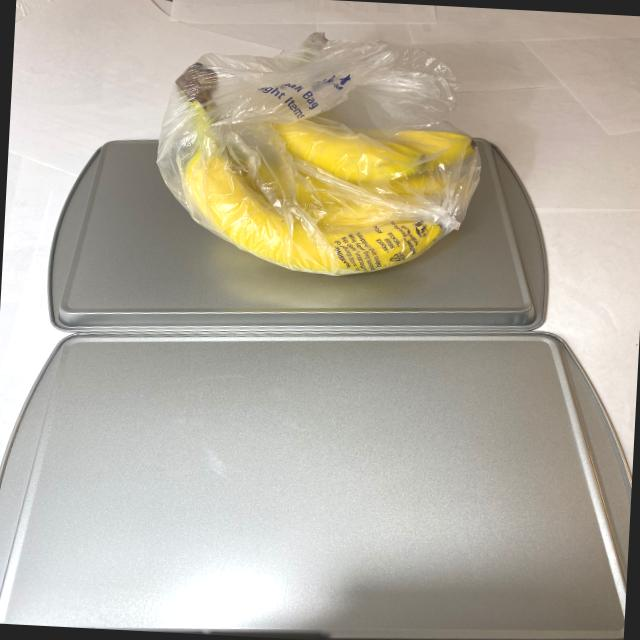banana: (158, 41, 496, 284)
